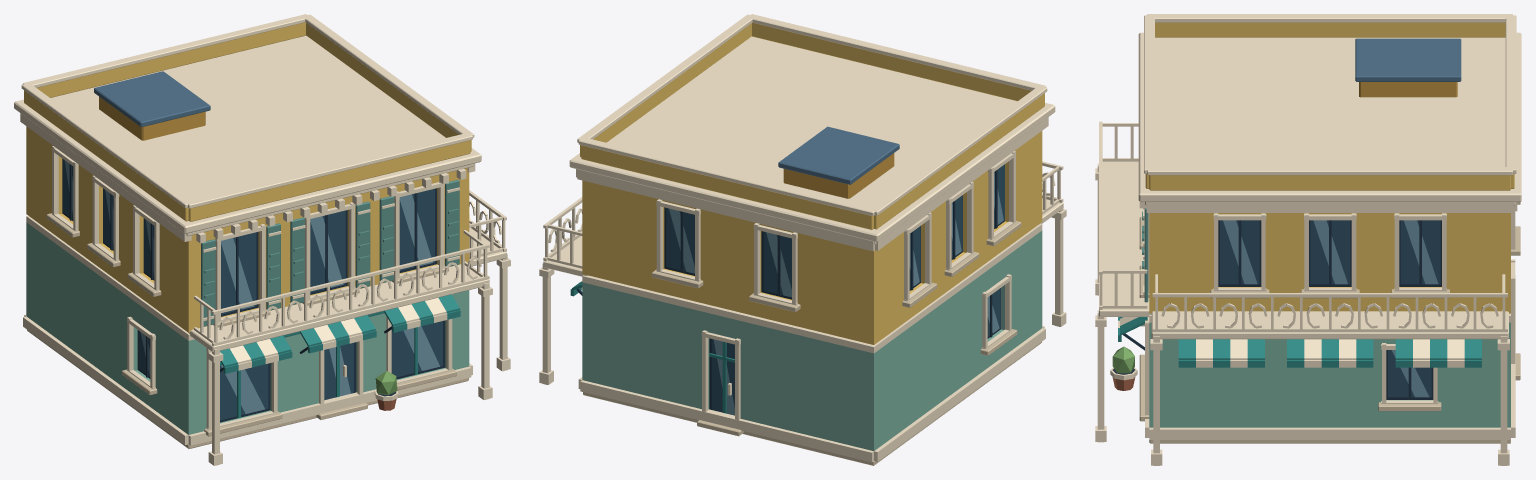
The model's file is corner_cafe.glb.
3 renders of one model, left to right at view 1: azimuth 30°, elevation 25°; view 2: azimuth 150°, elevation 25°; view 3: azimuth 270°, elevation 25°, orthographic. The views are drawn at different scales.
Visible parts, largest first — view 1: CornerCafe_StaticMesh; view 2: CornerCafe_StaticMesh; view 3: CornerCafe_StaticMesh.
Part boxes in pixels (x1,y1,x2,y2): CornerCafe_StaticMesh: (14, 14, 510, 465); CornerCafe_StaticMesh: (539, 14, 1066, 465); CornerCafe_StaticMesh: (1095, 14, 1521, 465).
Bounding box in the file's own units: 10.38 × 7.45 × 10.38.
